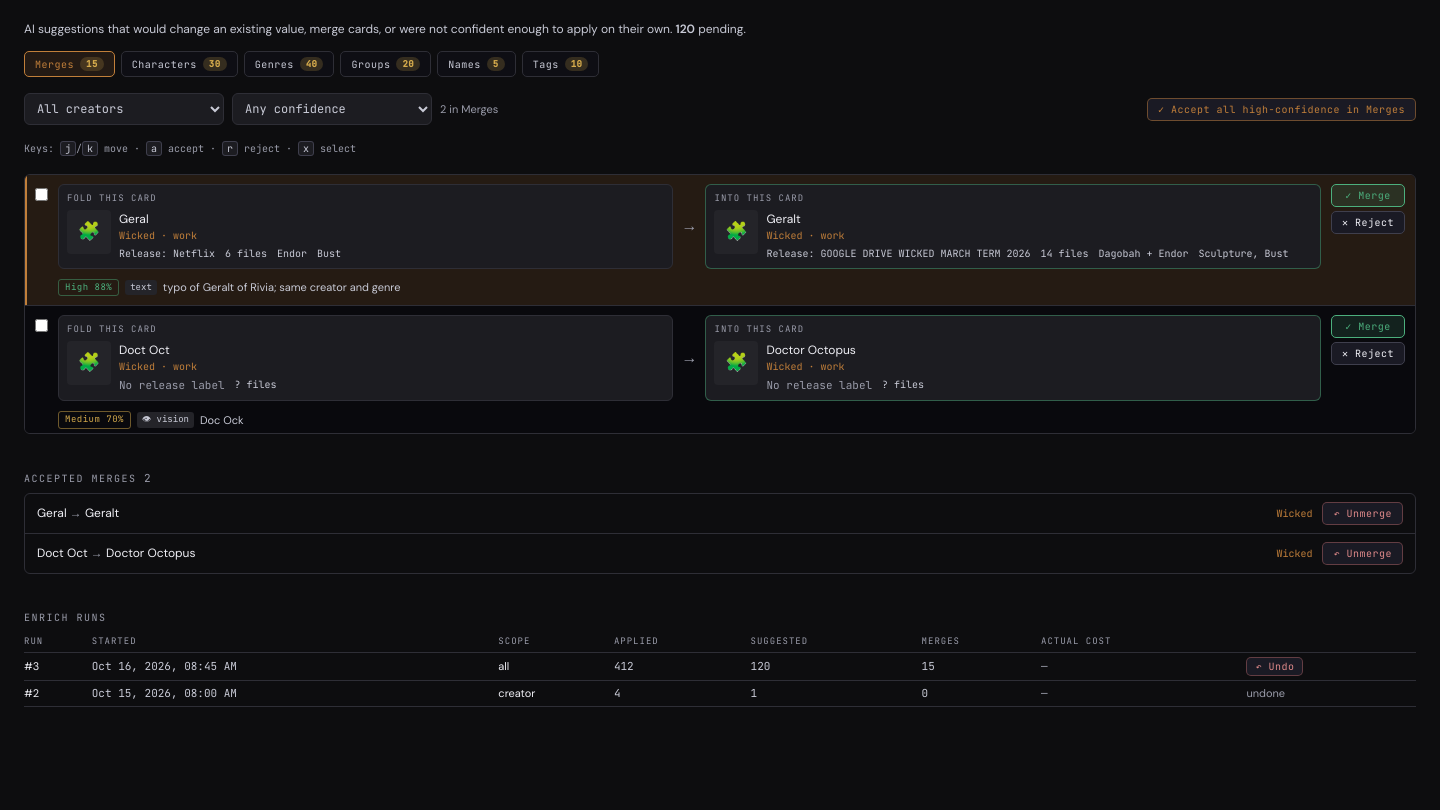
Scenario: Review tab › merge rows show both cards side by side with release labels and file counts
Expected: the 1st text "Fold this card" is shown, x1=67 y1=192 x2=157 y2=204
Expected: the 1st text "into this card" is shown, x1=714 y1=192 x2=804 y2=204
# accepting a merge says so
What coordinates should you click on to do the following:
click the button with aria-label "Accept Same character for Geral"
I would click on:
 (1368, 196)
Its box is x1=1331 y1=184 x2=1405 y2=207.
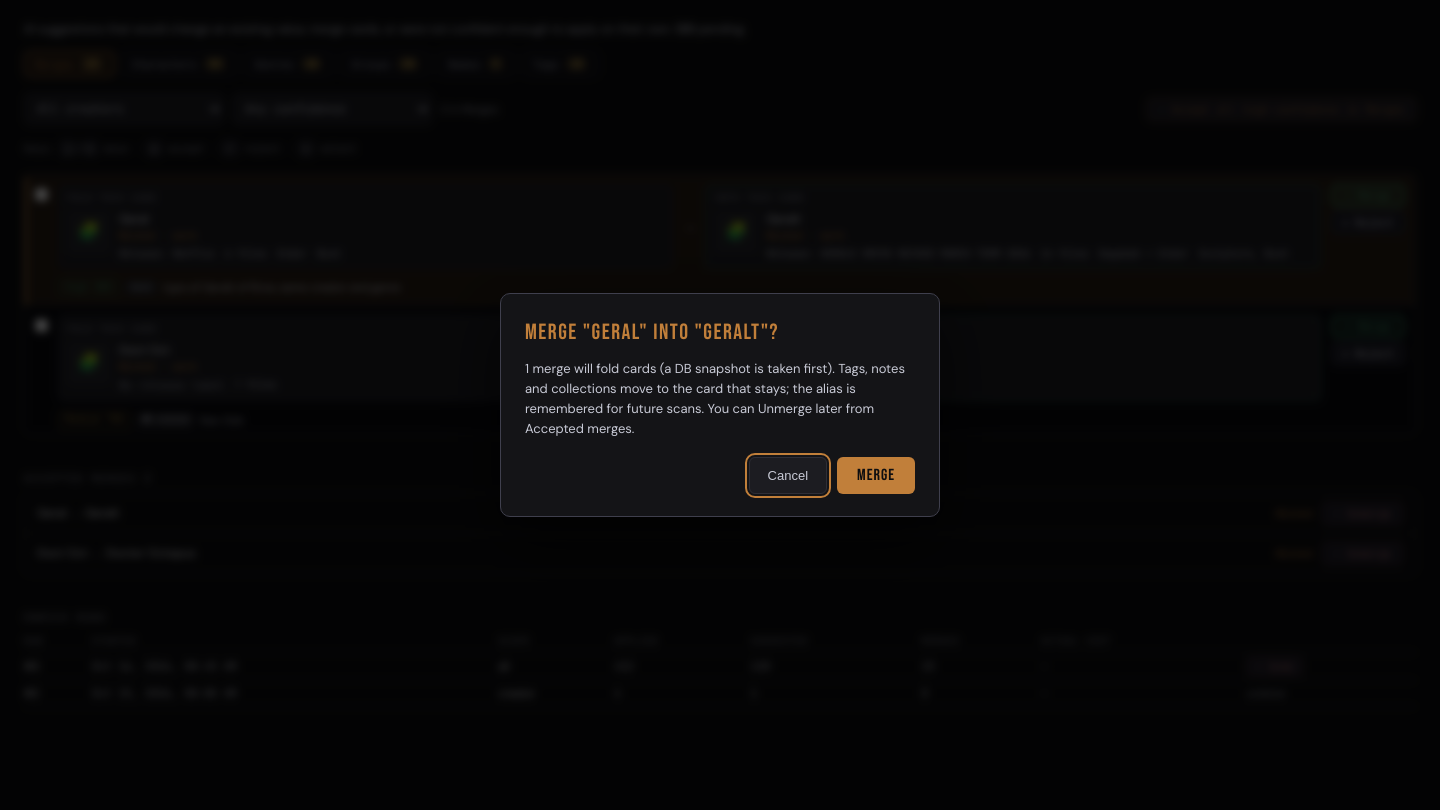
Expected: the dialog "Merge \"Geral\" into \"Geralt\"?" shows "1 merge will fold cards (a DB snapshot is taken first)", x1=500 y1=293 x2=940 y2=517
What coordinates should you click on to do the following:
click the button "Merge"
I would click on:
 (876, 476)
Its box is x1=837 y1=457 x2=915 y2=494.
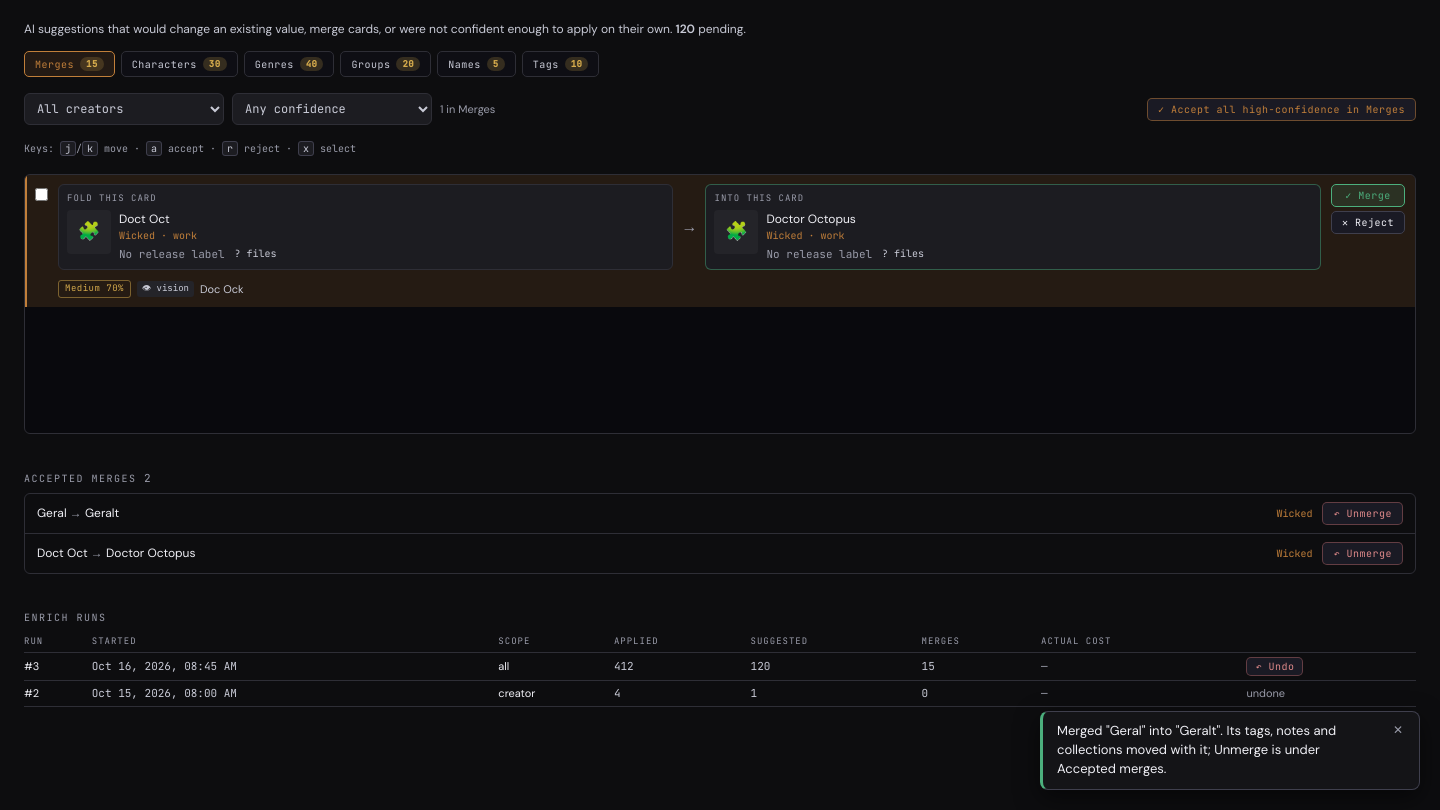
Expected: the text "Merged \"Geral\" into \"Geralt\"" is shown, x1=1057 y1=722 x2=1336 y2=777
Expected: the checkbox labelled "Same character: Geral" is gone
